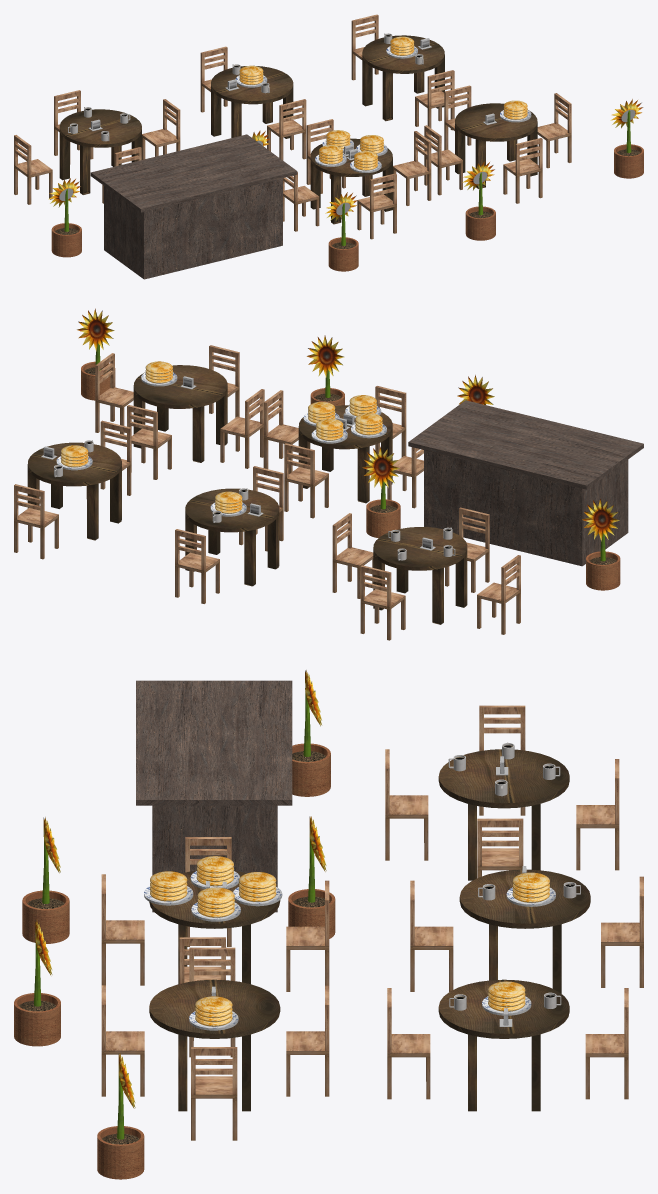
File: resout.fbx
3 views of the same model, one above another, from view 1: azimuth 30°, elevation 25°; view 2: azimuth 150°, elevation 25°; view 3: azimuth 270°, elevation 25° (orthographic). The views are drawn at different scales.
Parts seen in each view (by area): view 1: Cube.001, Circle, Circle.001, Circle.002, Circle.004, Circle.003, Cylinder.039, Cylinder.036, Cylinder.038, Cylinder.037, Cube.002, Cube.003 (+19 smaller); view 2: Cube.001, Circle, Circle.002, Circle.004, Circle.001, Circle.003, Cylinder.036, Cylinder.035, Cube.010, Cube.009, Cube.008, Cube.016 (+22 smaller); view 3: Cube.001, Circle, Circle.002, Circle.001, Circle.004, Cylinder.037, Cylinder.038, Cylinder.039, Circle.003, Cylinder.036, Cube.020, Cylinder.035 (+22 smaller).
Boxes of the visible parts, <box> form: Cube.001: <box>90,134,297,279</box>; Circle: <box>59,109,141,194</box>; Circle.001: <box>362,35,444,121</box>; Circle.002: <box>455,103,537,188</box>; Circle.004: <box>211,65,293,138</box>; Circle.003: <box>310,138,392,224</box>; Cylinder.039: <box>325,192,358,271</box>; Cylinder.036: <box>48,178,81,257</box>; Cylinder.038: <box>462,161,495,240</box>; Cylinder.037: <box>610,99,643,178</box>; Cube.002: <box>503,138,542,203</box>; Cube.003: <box>357,173,396,239</box>; Cube.001: <box>408,400,643,566</box>; Circle: <box>373,527,467,624</box>; Circle.002: <box>133,365,227,462</box>; Circle.004: <box>185,488,279,586</box>; Circle.001: <box>27,442,121,540</box>; Circle.003: <box>298,405,392,503</box>; Cylinder.036: <box>582,499,620,590</box>; Cylinder.035: <box>362,446,400,537</box>; Cube.010: <box>360,565,405,640</box>; Cube.009: <box>175,529,219,603</box>; Cube.008: <box>14,484,58,559</box>; Cube.016: <box>284,443,328,518</box>; Cube.001: <box>136,680,292,912</box>; Circle: <box>438,749,569,880</box>; Circle.002: <box>149,979,280,1111</box>; Circle.001: <box>438,979,569,1111</box>; Circle.004: <box>459,869,590,993</box>; Cylinder.037: <box>97,1053,144,1179</box>; Cylinder.038: <box>14,919,60,1046</box>; Cylinder.039: <box>22,817,69,943</box>; Circle.003: <box>149,870,280,984</box>; Cylinder.036: <box>292,670,330,796</box>; Cube.020: <box>191,1047,237,1140</box>; Cylinder.035: <box>288,816,335,938</box>.
Size of the model in its own units: 1540 by 213 by 1006.
